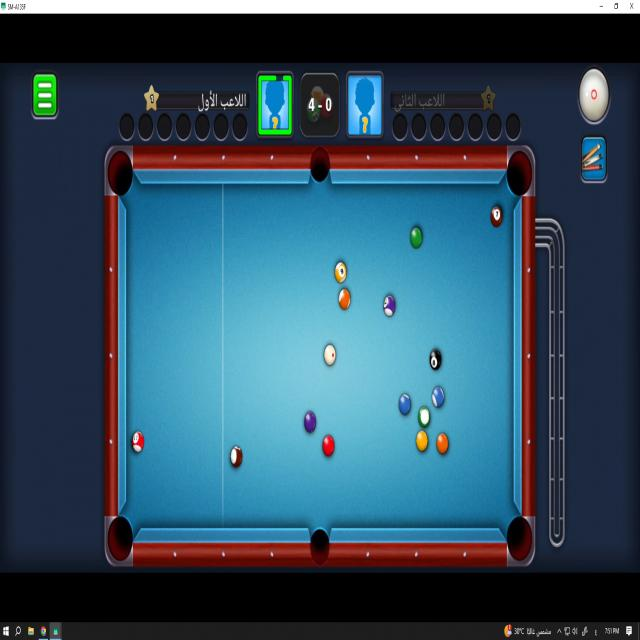object_ball: (230, 446, 243, 468), (429, 348, 442, 370), (410, 227, 422, 248), (322, 435, 334, 456), (304, 412, 316, 433), (335, 262, 346, 283), (384, 296, 395, 317), (399, 394, 410, 415), (339, 289, 350, 309), (432, 387, 443, 407), (133, 432, 144, 452), (416, 431, 427, 451), (491, 206, 502, 226), (419, 407, 429, 428), (437, 434, 448, 453)
white_cue_ball: (324, 345, 335, 365)
